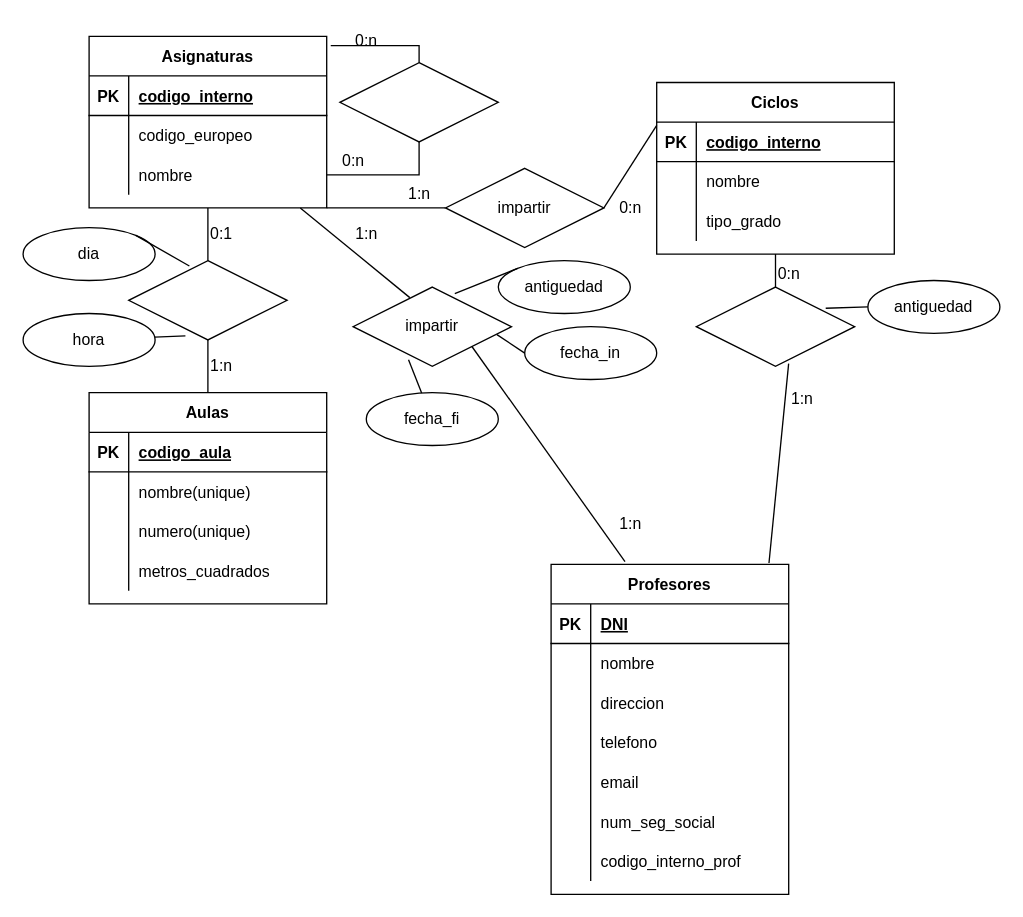
This 1023x917 diagram has some shape labels left out. The centre of each missing label's shape, as x and y in pixels:
ocupar: pixel 207 299
requiere_aprobar: pixel 418 101
tutoria: pixel 775 326
